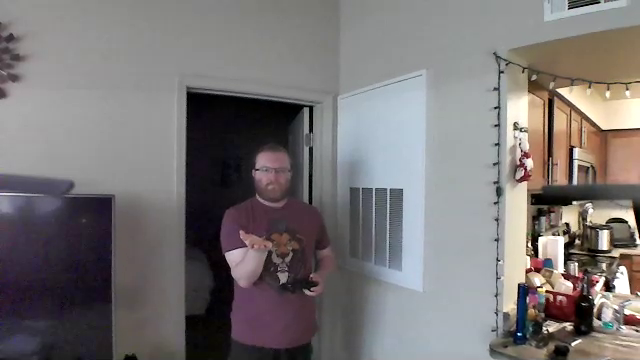land: (240, 228, 275, 253)
